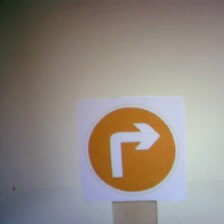right: (79, 94, 181, 200)
